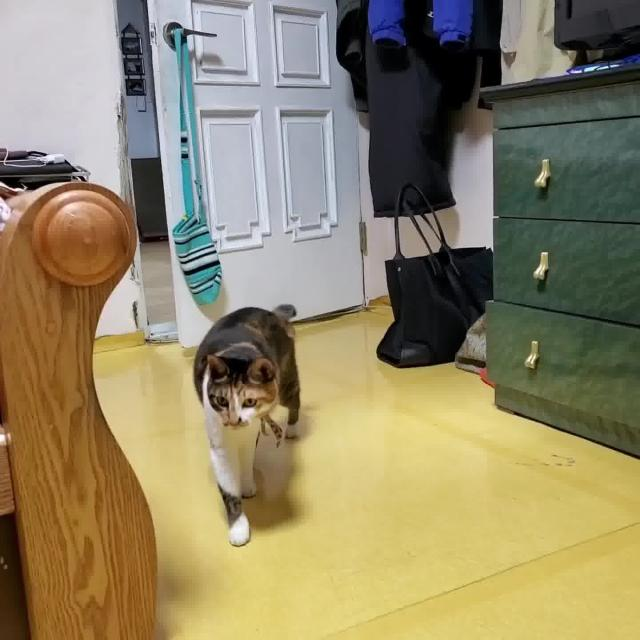cat: (192, 296, 304, 553)
